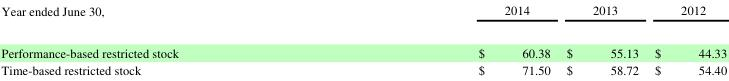table: (0, 0, 726, 77)
table column: (0, 0, 327, 77), (327, 0, 557, 77), (557, 0, 646, 77), (646, 0, 726, 77)
table column header: (0, 0, 726, 30)
table row: (0, 0, 726, 30), (0, 30, 726, 60), (0, 60, 726, 77)
